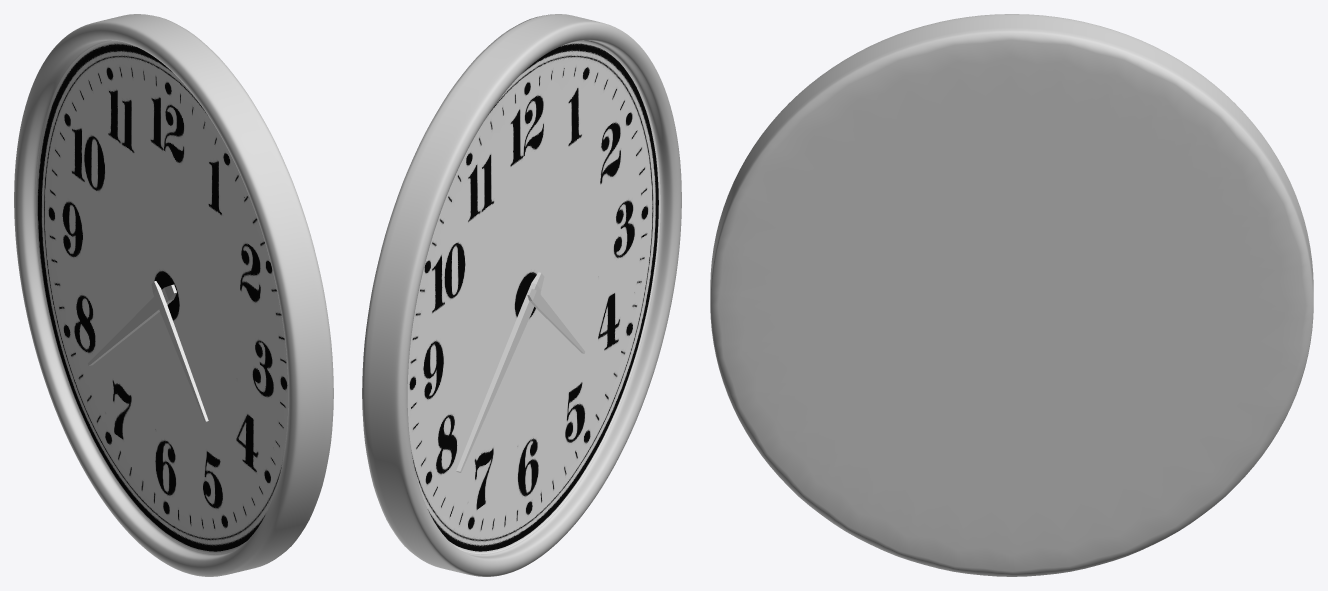
File: Watch.fbx
3 renders of one model, left to right at view 1: azimuth 30°, elevation 25°; view 2: azimuth 150°, elevation 25°; view 3: azimuth 270°, elevation 25°, orthographic. The views are drawn at different scales.
Parts seen in each view (by area): view 1: Cube.001; view 2: Cube.001; view 3: Cube.001.
Boxes of the visible parts, box(x1,y1,x2,y2) form: Cube.001: box(14, 14, 333, 576); Cube.001: box(362, 14, 681, 576); Cube.001: box(710, 14, 1313, 576).
Size of the model in its own units: 17.68 by 199 by 199.
